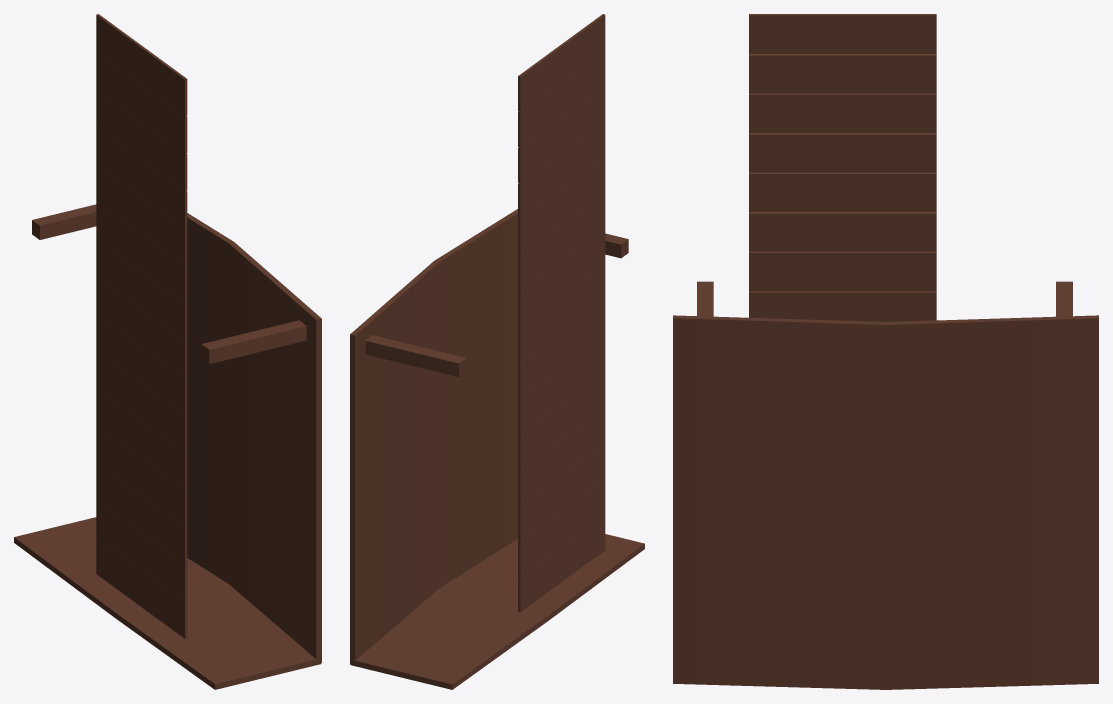
The model's file is House02.FBX.
The picture shows the model from 3 angles, left to right: view 1: azimuth 30°, elevation 25°; view 2: azimuth 150°, elevation 25°; view 3: azimuth 270°, elevation 25°; orthographic projection. The views are drawn at different scales.
Visible parts, largest first — view 1: Box182, Box178, Box179, Box180, Box181; view 2: Box178, Box182, Box179, Box181, Box180; view 3: Box178, Box182.
Part boxes in pixels (x1=…): Box182: x1=96, y1=14, x2=187, y2=638; Box178: x1=187, y1=213, x2=321, y2=664; Box179: x1=14, y1=517, x2=321, y2=689; Box180: x1=201, y1=320, x2=306, y2=363; Box181: x1=32, y1=204, x2=96, y2=239; Box178: x1=350, y1=209, x2=518, y2=663; Box182: x1=518, y1=14, x2=605, y2=612; Box179: x1=350, y1=534, x2=644, y2=689; Box181: x1=365, y1=335, x2=466, y2=377; Box180: x1=605, y1=233, x2=628, y2=258; Box178: x1=673, y1=315, x2=1098, y2=689; Box182: x1=749, y1=14, x2=936, y2=321.
Bounding box in the file's own units: 32.94 × 154 × 95.8.
